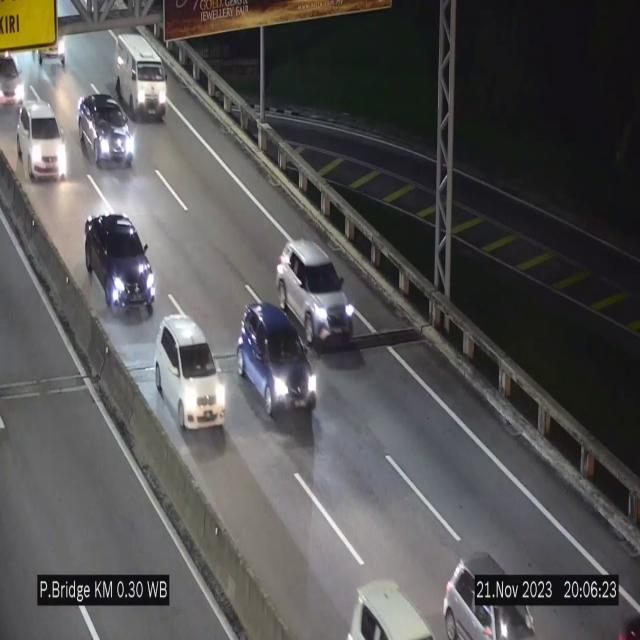Car: (235, 298, 318, 420), (155, 316, 227, 434), (277, 241, 355, 346), (441, 553, 534, 640), (84, 210, 156, 322), (346, 574, 444, 640), (13, 98, 72, 188), (115, 32, 168, 120), (78, 94, 136, 166), (0, 43, 34, 109)
